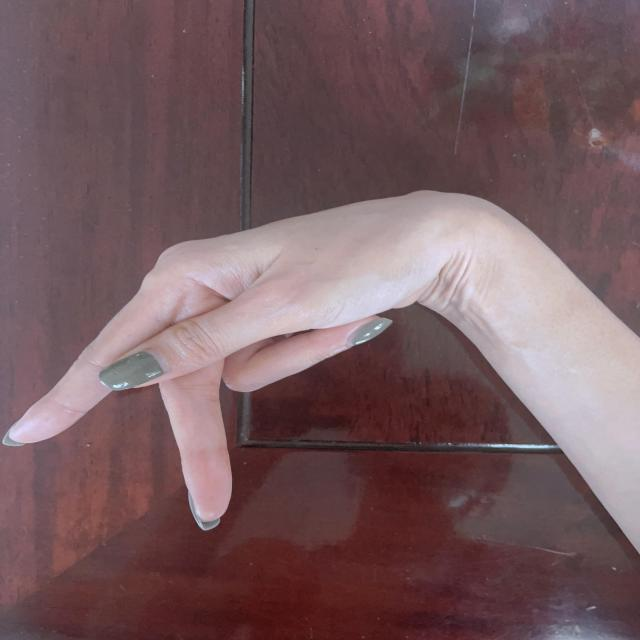P: (6, 187, 461, 527)
